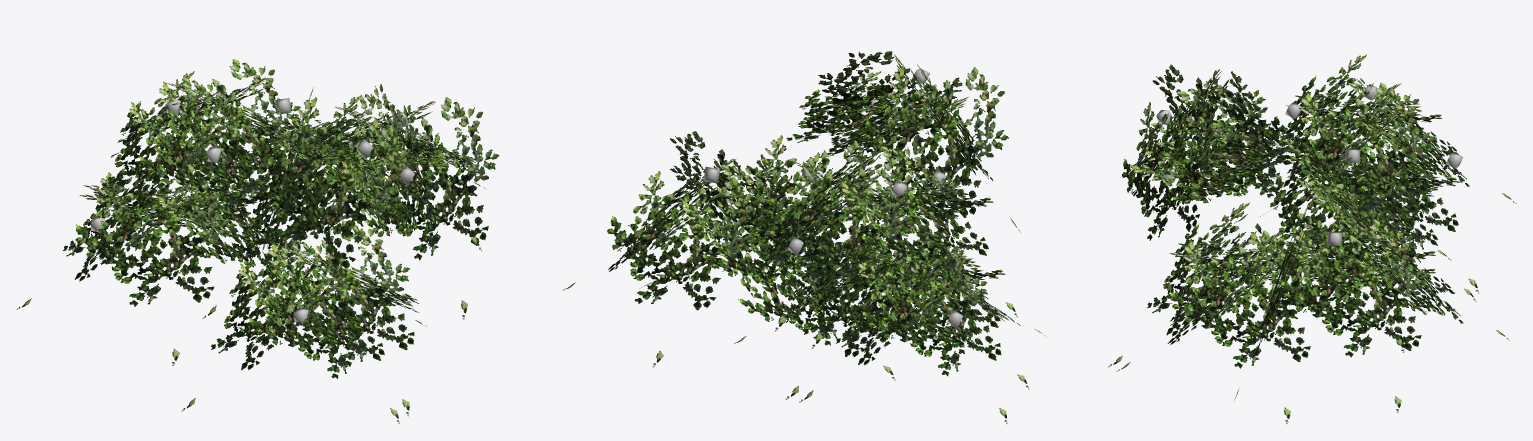
The model's file is tree_apple_top_g.dae.
The picture shows the model from 3 angles, left to right: view 1: azimuth 30°, elevation 25°; view 2: azimuth 150°, elevation 25°; view 3: azimuth 270°, elevation 25°; orthographic projection. The views are drawn at different scales.
Parts seen in each view (by area): view 1: canopy05-Pivot; view 2: canopy05-Pivot; view 3: canopy05-Pivot.
Part boxes in pixels (left/top/right/bottom): canopy05-Pivot: left=16, top=59, right=499, bottom=423; canopy05-Pivot: left=562, top=51, right=1045, bottom=424; canopy05-Pivot: left=1108, top=54, right=1516, bottom=424.
Bounding box in the file's own units: 12.58 × 10.36 × 8.86.
